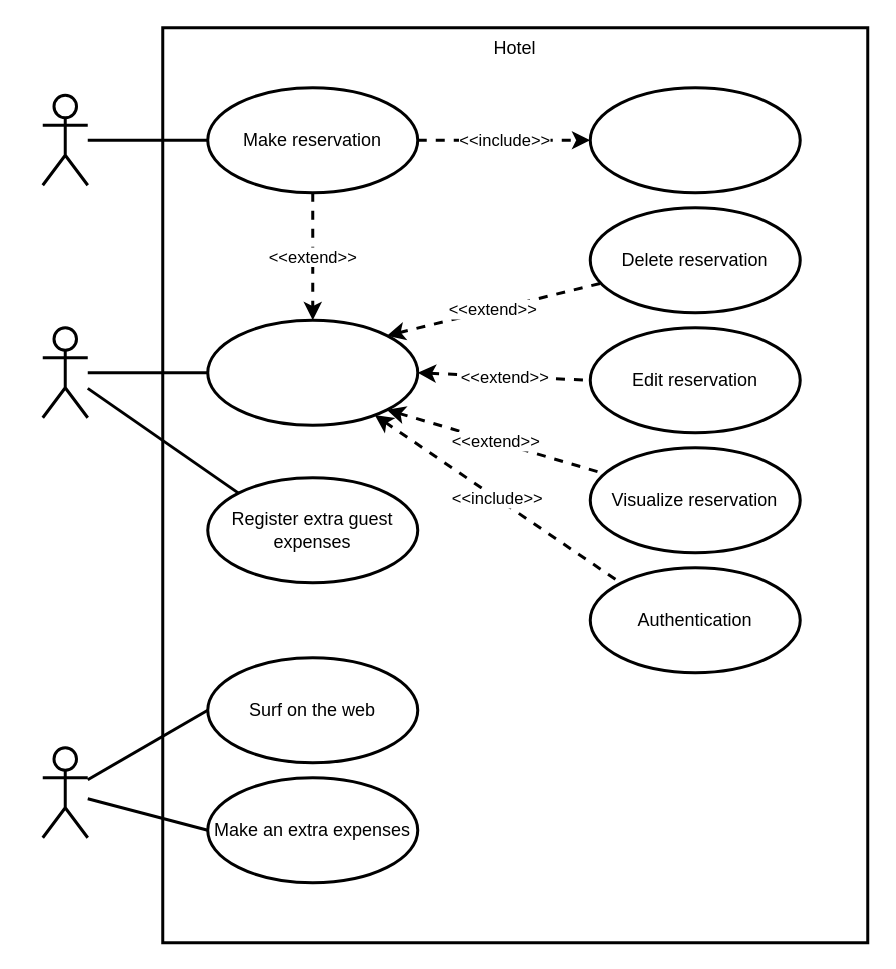
The diagram is 896 pixels wide and 969 high, and some of its shapes have lost their labels. The centre of each missing label's shape, as x and y in pixels:
"Client" belongs at (64,139).
"Employee" belongs at (64,372).
"Guest" belongs at (64,792).
"Reservation management" belongs at (312,372).
"Sign up" belongs at (694,140).
